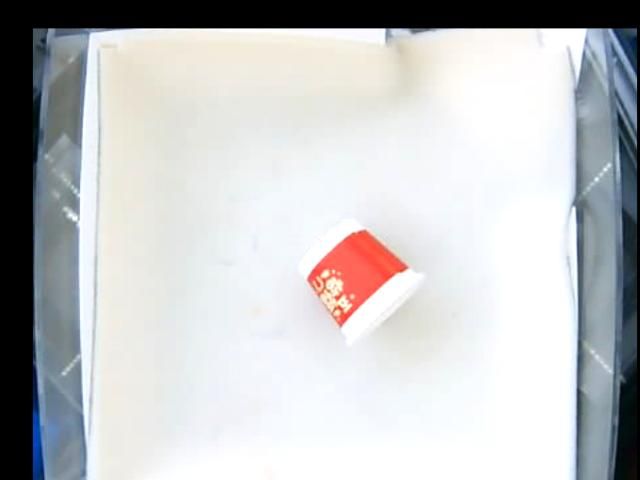Cup: (300, 219, 423, 340)
